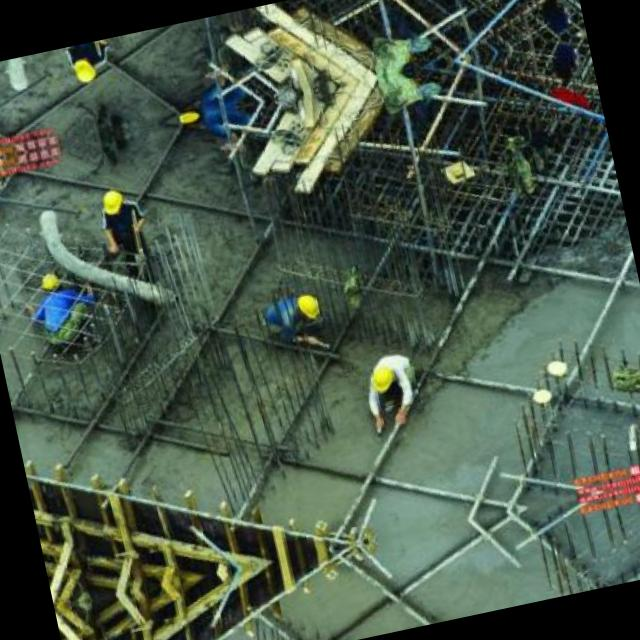helmet: (290, 287, 322, 321), (95, 186, 126, 218), (68, 54, 99, 86), (366, 366, 394, 394), (34, 269, 60, 295)
